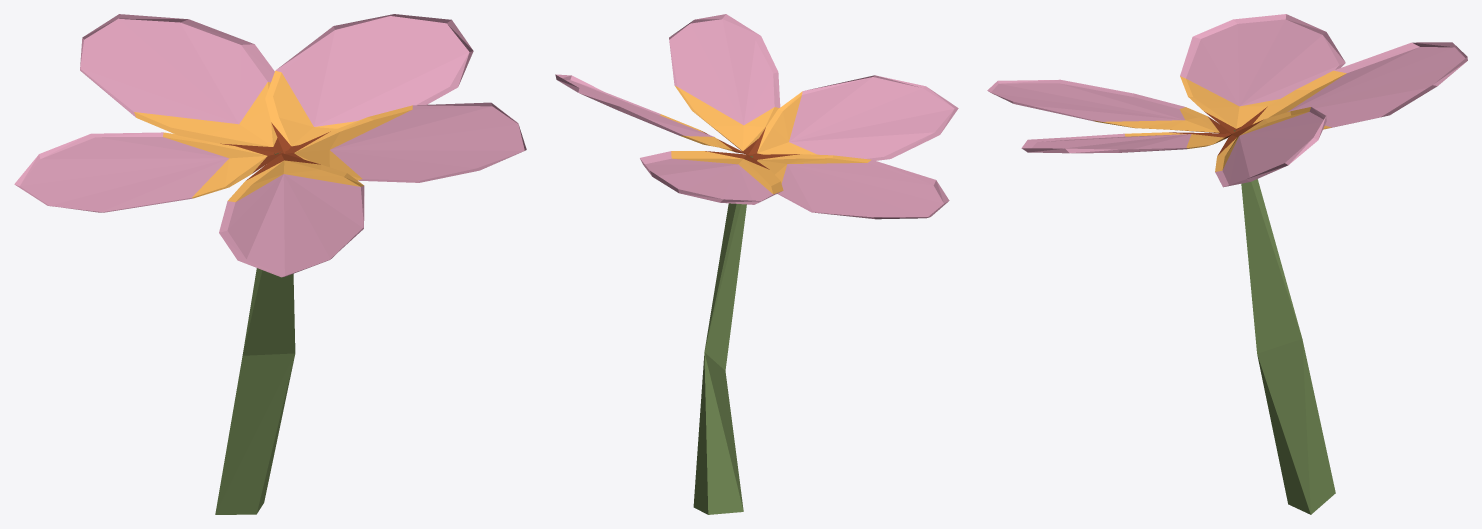
File: pink frangipani cuttings.fbx
3 renders of one model, left to right at view 1: azimuth 30°, elevation 25°; view 2: azimuth 150°, elevation 25°; view 3: azimuth 270°, elevation 25°, orthographic. The views are drawn at different scales.
Parts seen in each view (by area): view 1: Pink_Frangipani; view 2: Pink_Frangipani; view 3: Pink_Frangipani.
Part boxes in pixels (<box>): Pink_Frangipani: <box>14,14,526,514</box>; Pink_Frangipani: <box>555,14,958,514</box>; Pink_Frangipani: <box>987,14,1467,514</box>.
Size of the model in its own units: 12.56 by 12.49 by 12.39.
